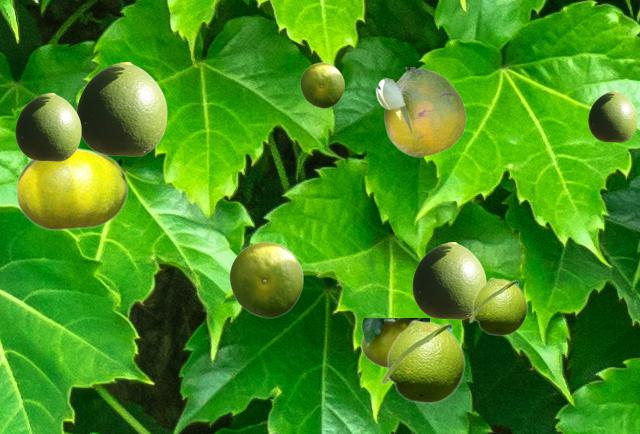dalandan: (15, 147, 127, 230), (76, 62, 166, 155), (375, 67, 465, 156), (380, 319, 465, 403), (229, 241, 302, 317), (412, 242, 485, 318), (15, 93, 80, 160), (468, 277, 527, 335), (361, 318, 428, 368), (588, 91, 636, 141), (300, 62, 343, 107)
